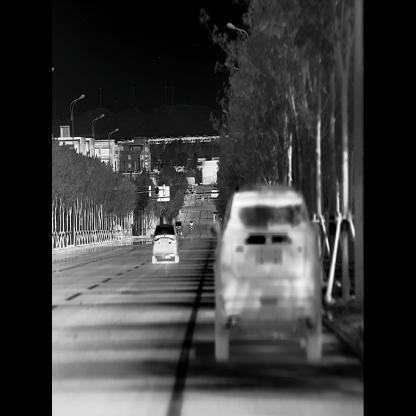car: (209, 178, 328, 369), (150, 220, 182, 265), (174, 220, 184, 236), (187, 182, 195, 196), (188, 218, 195, 232)
